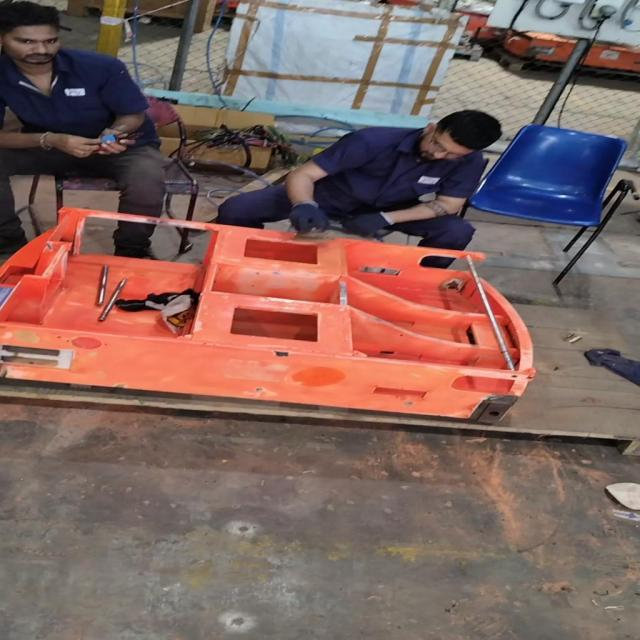Gloves-Detection: (347, 213, 387, 242), (290, 204, 324, 228)
